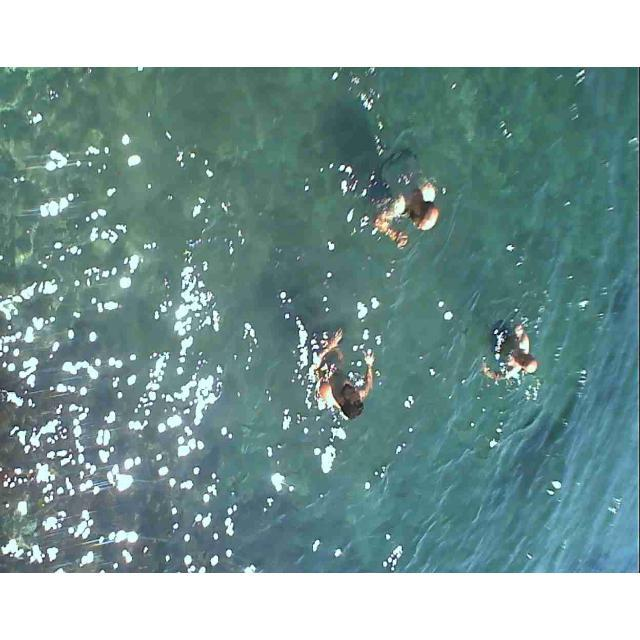human: (312, 328, 380, 431), (376, 149, 440, 257), (496, 312, 545, 402)
